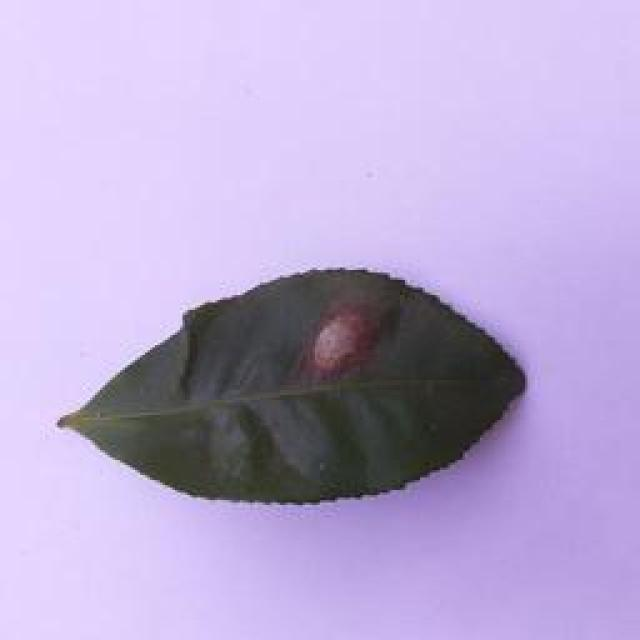Gray Blight: (58, 264, 536, 510)
